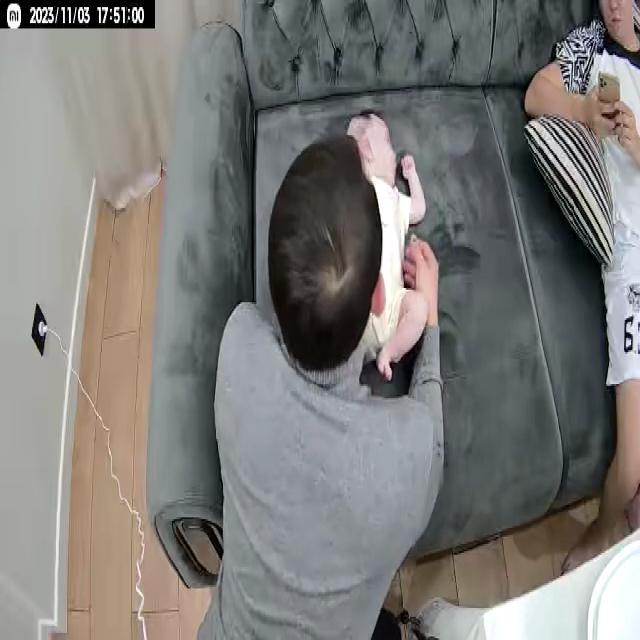baby: (343, 102, 427, 386)
